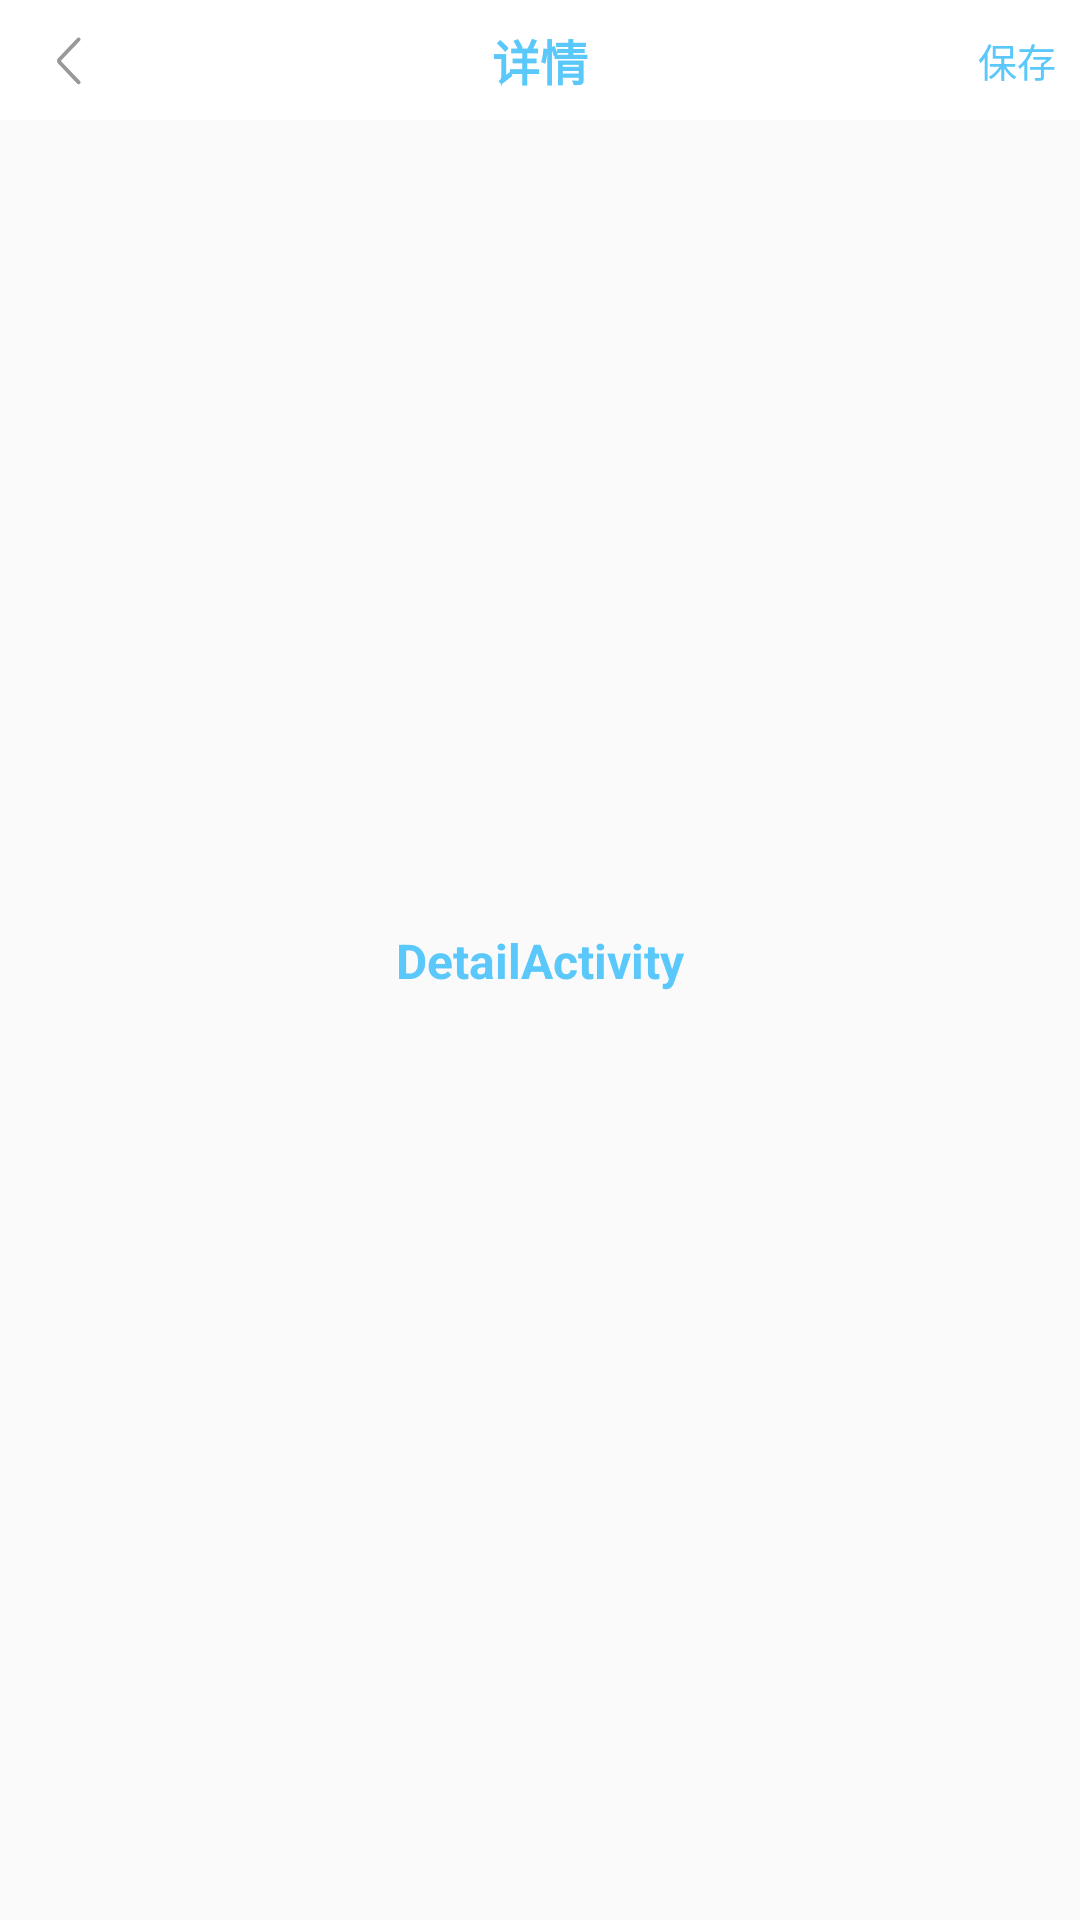

Locate icon controls on the screen. Image size 1080w x 1920h, boxes as (x1, y1, x2, y2).
back: (57, 37, 81, 85)
